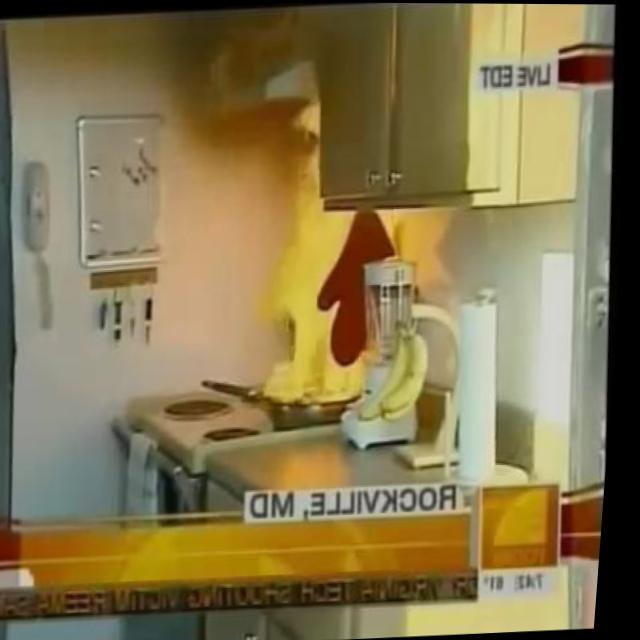fire: (238, 100, 403, 411)
